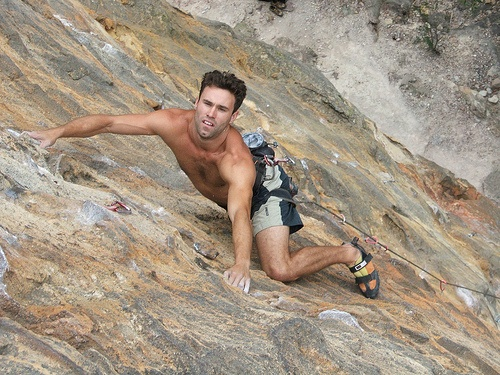head: (194, 71, 247, 140)
person: (13, 64, 393, 301)
